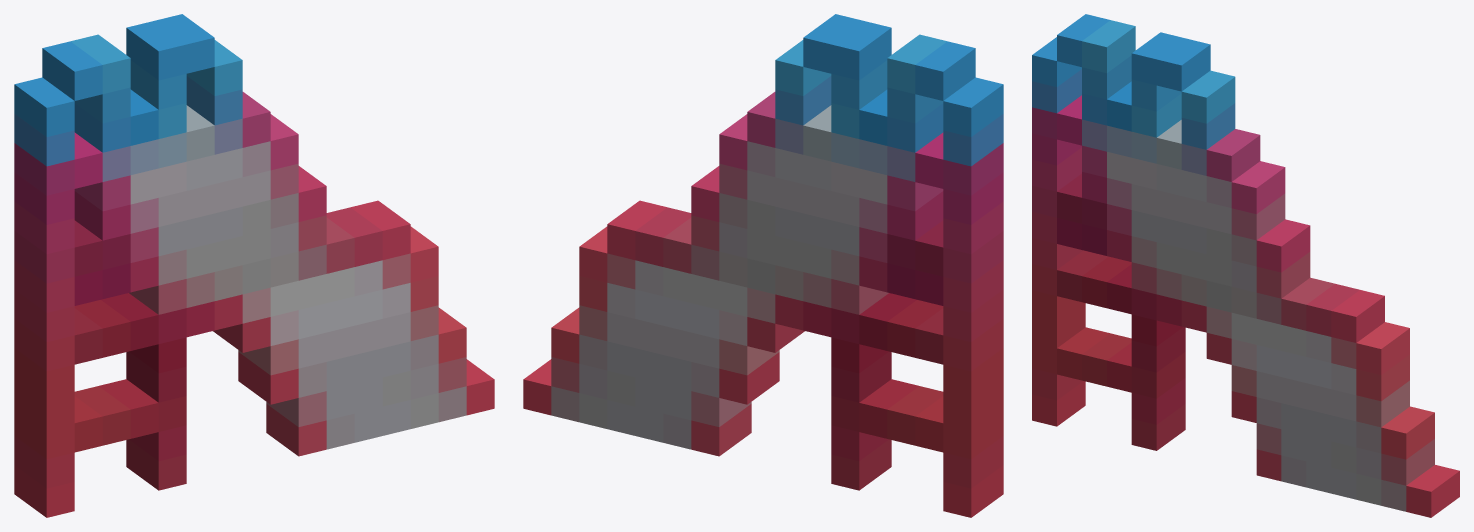
Rendered from playground-slide.glb.
The picture shows the model from 3 angles, left to right: view 1: azimuth 30°, elevation 25°; view 2: azimuth 150°, elevation 25°; view 3: azimuth 330°, elevation 25°; orthographic projection. The views are drawn at different scales.
Visible parts, largest first — view 1: prop; view 2: prop; view 3: prop.
Boxes of the visible parts, x1,y1,x2,y2 form: prop: [14, 14, 494, 517]; prop: [523, 14, 1003, 517]; prop: [1032, 14, 1459, 517].
Bounding box in the file's own units: 16 × 15 × 2.
